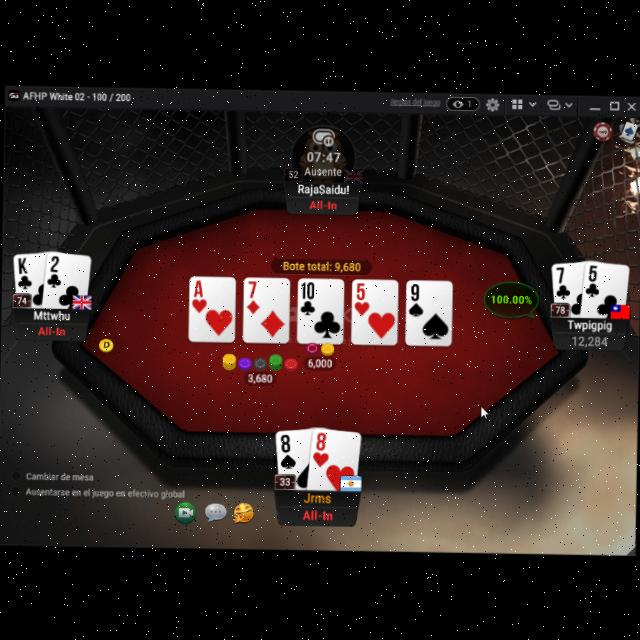2c: (45, 252, 63, 289)
5c: (584, 260, 602, 298)
5h: (352, 281, 370, 316)
6s: (277, 430, 298, 470)
7c: (552, 264, 572, 298)
7d: (246, 279, 261, 315)
8h: (312, 429, 331, 467)
8s: (278, 430, 299, 469)
9h: (310, 429, 330, 467)
9s: (406, 278, 424, 316)
Ah: (190, 276, 208, 312)
Kc: (16, 254, 34, 288)
Tc: (298, 278, 317, 316)
all_in_symbol: (300, 504, 334, 522), (307, 196, 338, 210), (38, 322, 66, 336)
bet_text: (244, 369, 274, 383), (306, 354, 334, 368)
dealer: (96, 334, 116, 352)
pot_text: (283, 258, 361, 270)
stack_text: (573, 332, 608, 346)
